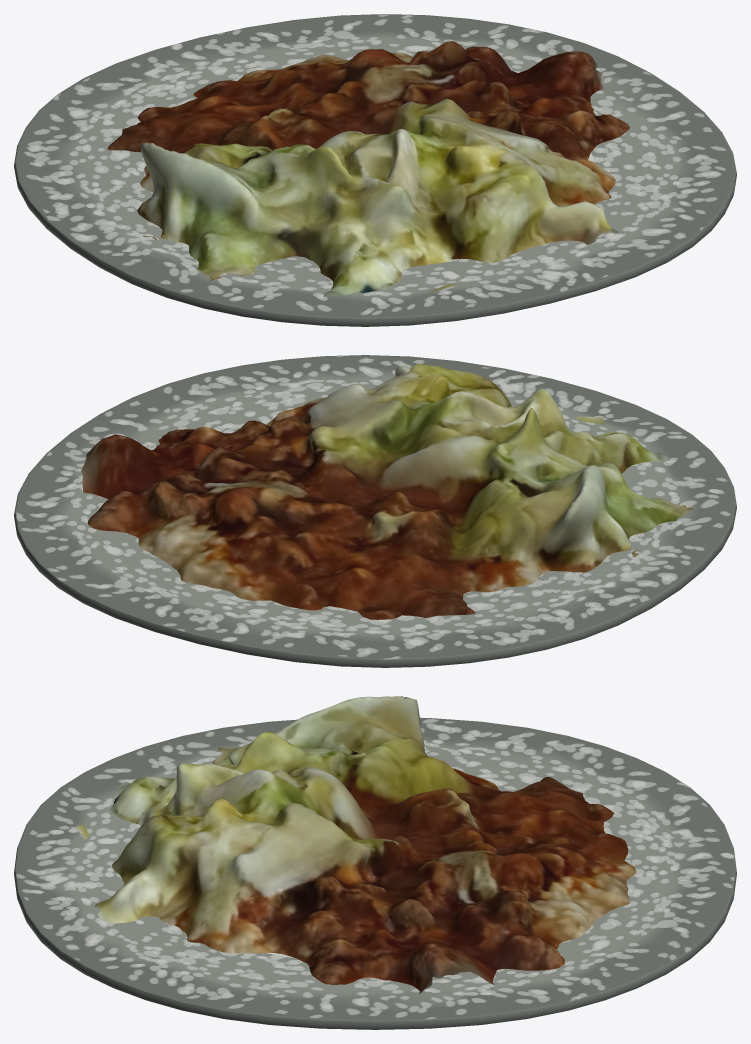
The model's file is arrozConSalsa.glb.
3 renders of one model, top to bottom at view 1: azimuth 30°, elevation 25°; view 2: azimuth 150°, elevation 25°; view 3: azimuth 270°, elevation 25°, orthographic. The views are drawn at different scales.
Parts seen in each view (by area): view 1: 3DModel, Plane; view 2: 3DModel, Plane; view 3: 3DModel, Plane.
Part boxes in pixels (x1=…): 3DModel: x1=107, y1=41, x2=629, y2=296; Plane: x1=14, y1=14, x2=736, y2=326; 3DModel: x1=81, y1=363, x2=693, y2=619; Plane: x1=14, y1=355, x2=736, y2=667; 3DModel: x1=76, y1=696, x2=636, y2=993; Plane: x1=14, y1=717, x2=736, y2=1029.
Size of the model in its own units: 0.2558 by 0.0683 by 0.2558.
2 materials, 2 textured.
